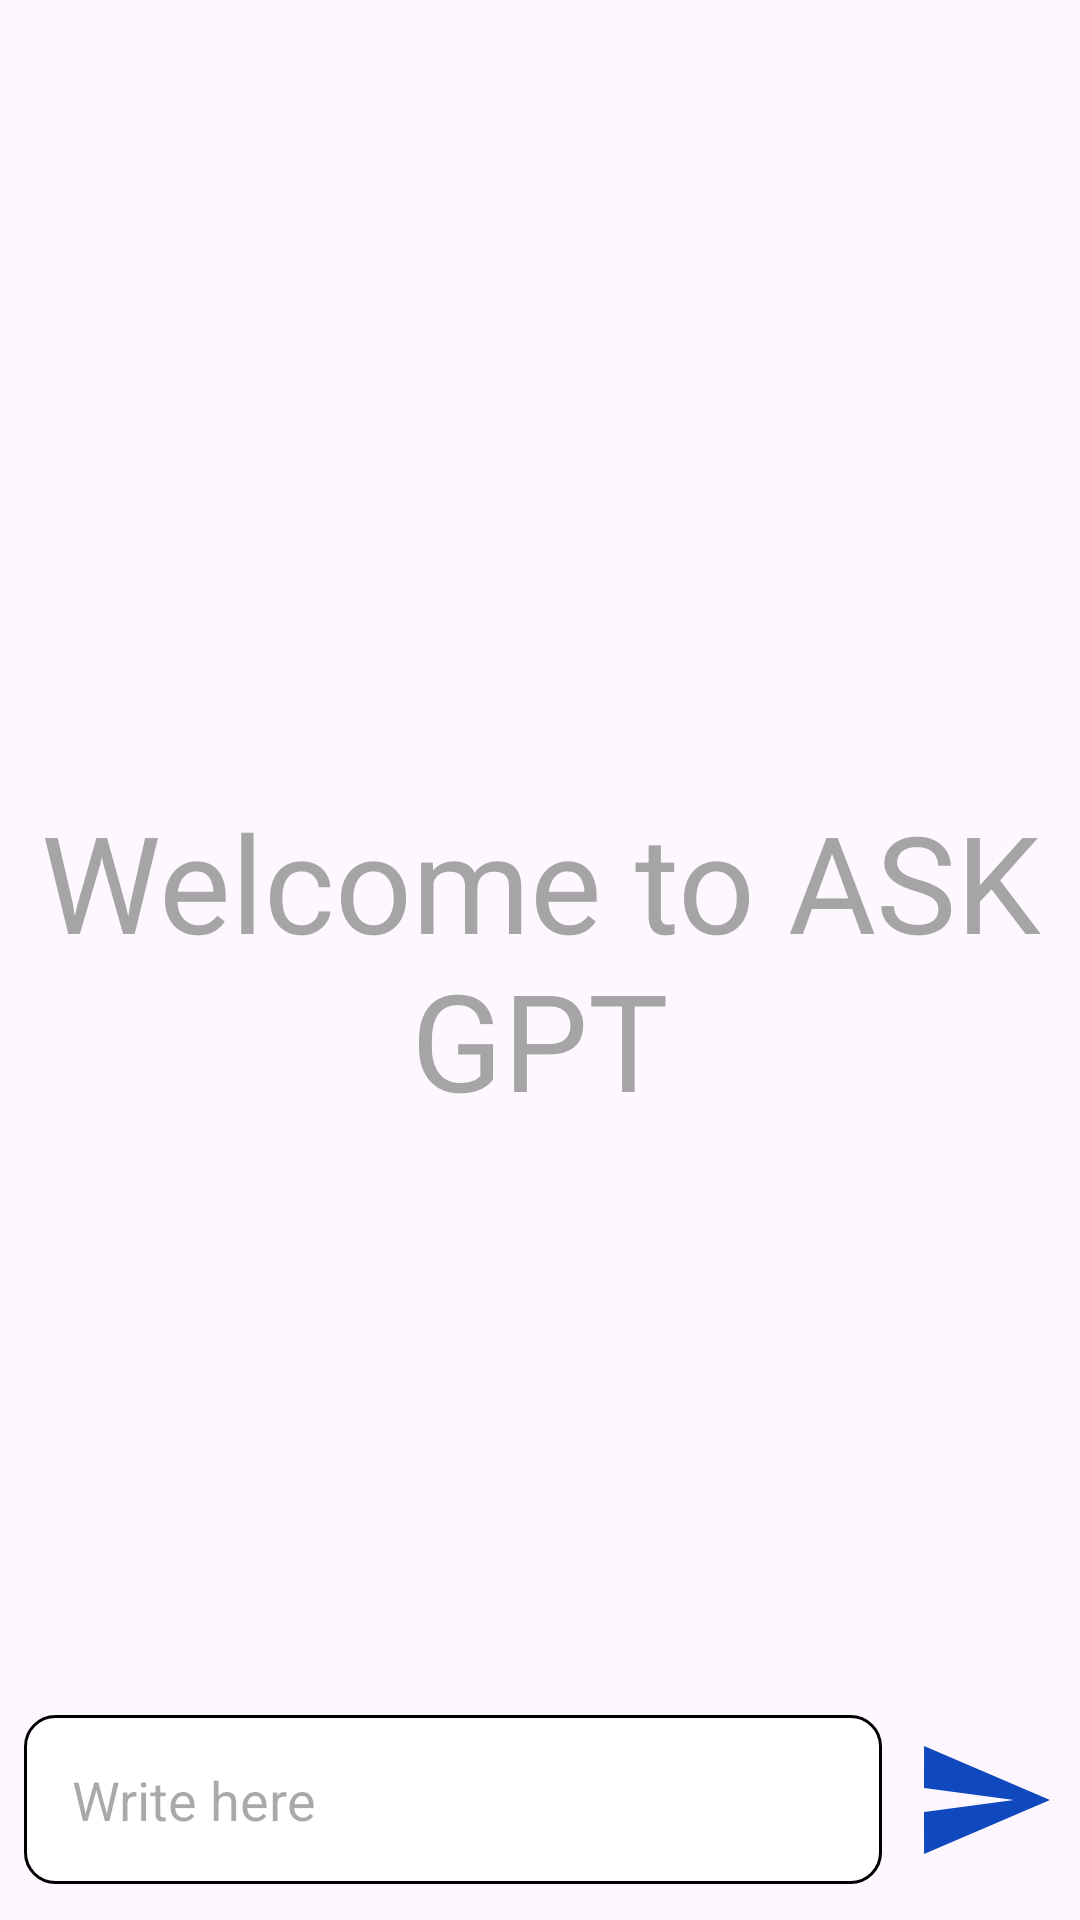

Icon bounding boxes for this 1080x1920 phone screenshot, format (x1,y1,x2,y2):
send: (924,1746,1050,1854)
